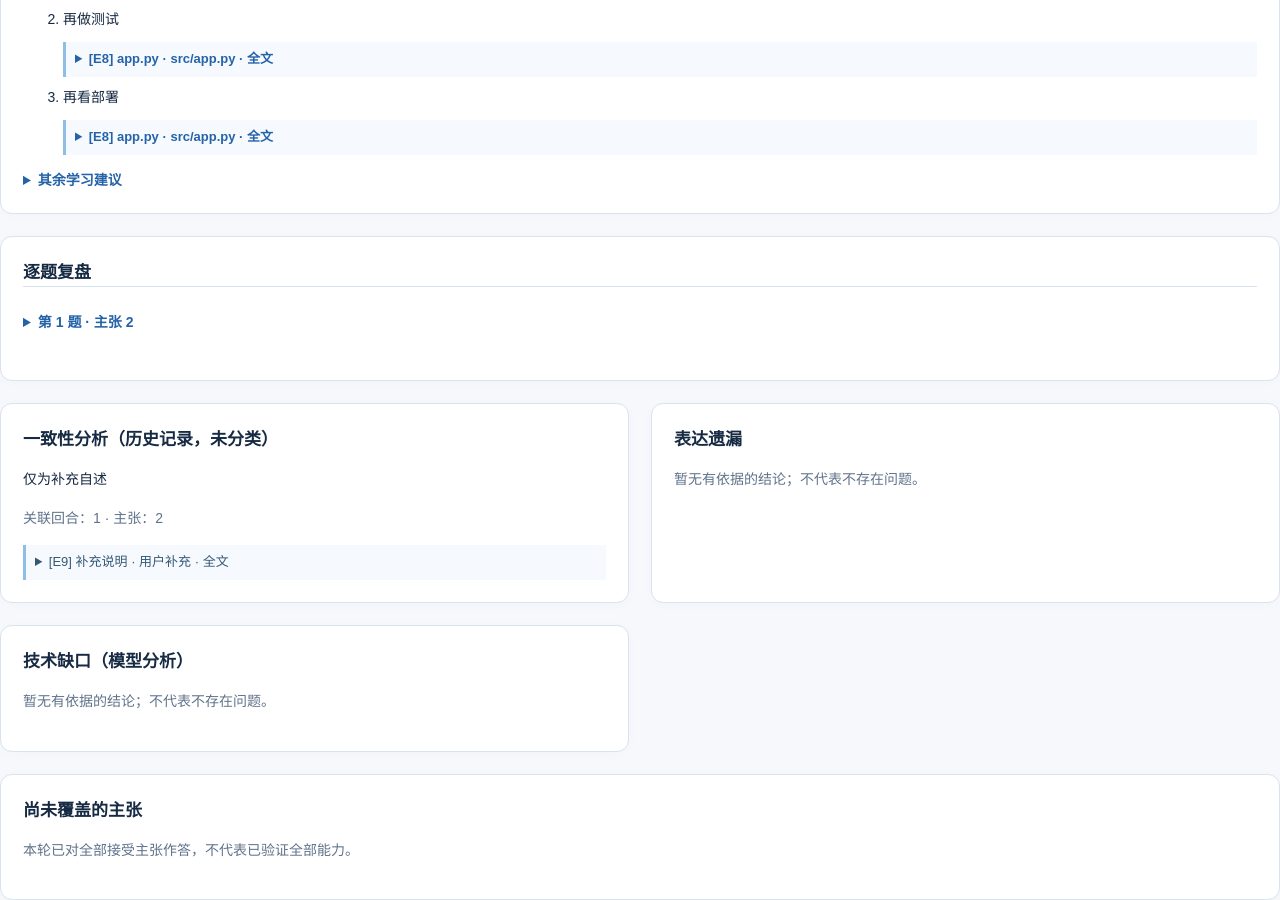
it: 引用原地绑定对应材料，忽略不存在的编号并保留代码与补充自述提示
(page scrolled)
Click the heading "[E9] 补充说明 · 用户补充 · 全文" at (139, 562), box [49,554,229,569]
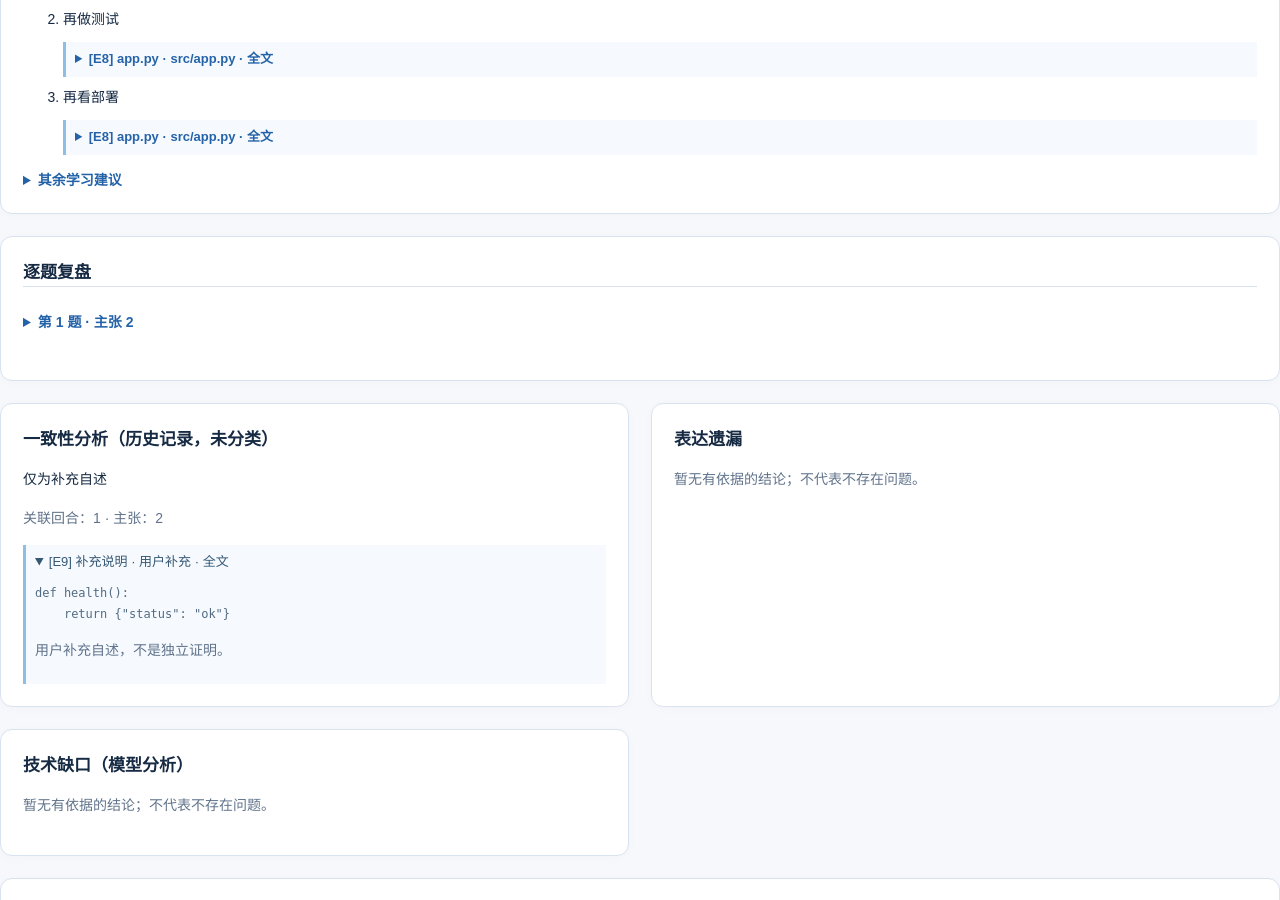
Check: the text "用户补充自述，不是独立证明。" is shown, box [35,642,231,658]
